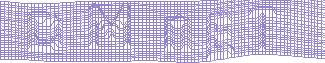D: (26, 10, 64, 54)
E: (206, 11, 235, 61)
M: (86, 3, 132, 50)
T: (246, 6, 278, 53)
n: (163, 14, 193, 53)
